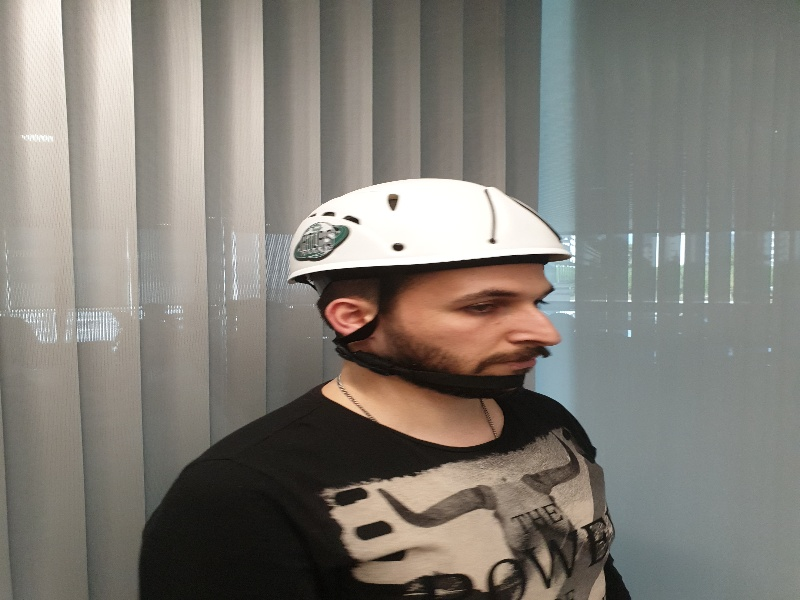Baret: (279, 176, 574, 268)
